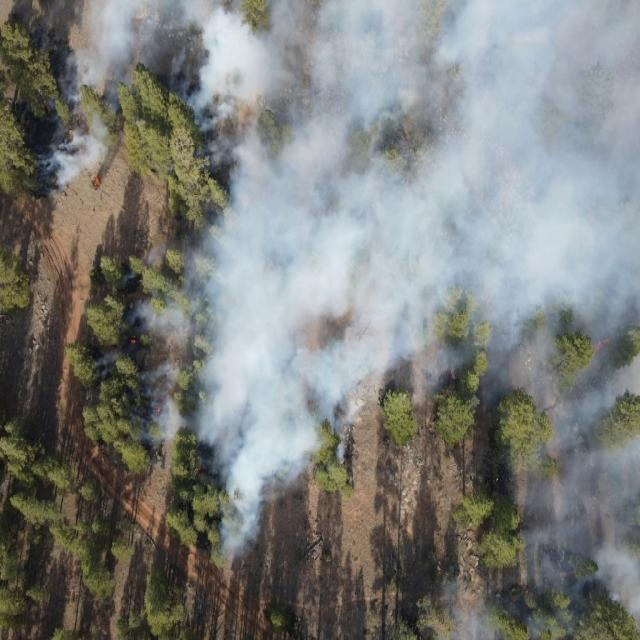fire: (590, 337, 614, 352), (92, 176, 103, 190), (154, 403, 163, 415), (129, 337, 137, 348), (522, 587, 532, 595)
smoke: (189, 138, 640, 402), (29, 0, 640, 139), (480, 404, 640, 640), (188, 400, 352, 476), (126, 243, 187, 442), (207, 476, 270, 556), (27, 138, 109, 196), (422, 560, 480, 640), (270, 477, 299, 502)
